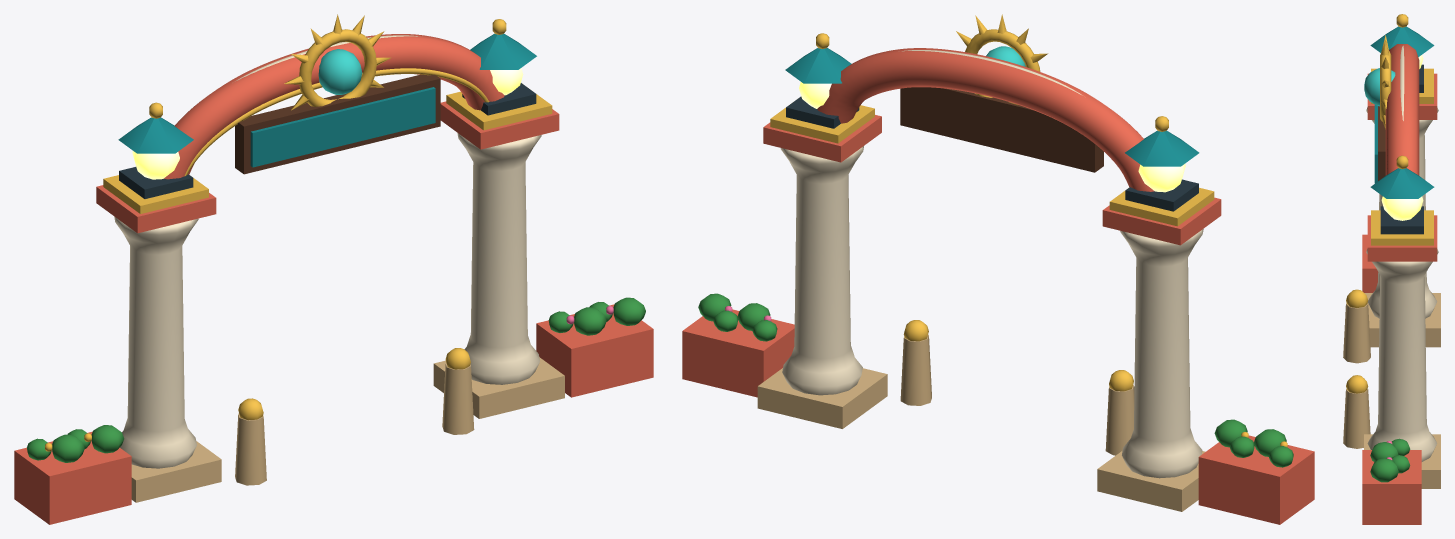
Rendered from island-gateway.glb.
3 renders of one model, left to right at view 1: azimuth 30°, elevation 25°; view 2: azimuth 150°, elevation 25°; view 3: azimuth 270°, elevation 25°, orthographic. The views are drawn at different scales.
Parts seen in each view (by area): view 1: Mesh_coral, Mesh_cream, Mesh_teal, Mesh_sandStone, Mesh_gold, Mesh_darkWood, Mesh_leaf, Mesh_iron, Mesh_glowWarm, Mesh_turquoise; view 2: Mesh_coral, Mesh_cream, Mesh_sandStone, Mesh_darkWood, Mesh_gold, Mesh_leaf, Mesh_teal, Mesh_iron, Mesh_glowWarm; view 3: Mesh_cream, Mesh_coral, Mesh_sandStone, Mesh_gold, Mesh_teal, Mesh_leaf, Mesh_iron, Mesh_glowWarm, Mesh_turquoise, Mesh_darkWood.
Boxes of the visible parts, box(x1,y1,x2,y2) form: Mesh_coral: box(14, 34, 653, 524); Mesh_cream: box(114, 35, 541, 468); Mesh_teal: box(118, 33, 536, 167); Mesh_sandStone: box(131, 357, 564, 502); Mesh_gold: box(103, 14, 552, 420); Mesh_darkWood: box(235, 74, 440, 174); Mesh_leaf: box(27, 297, 645, 462); Mesh_iron: box(119, 83, 536, 198); Mesh_glowWarm: box(132, 68, 523, 179); Mesh_turquoise: box(318, 49, 362, 94); Mesh_coral: box(682, 48, 1314, 524); Mesh_cream: box(780, 50, 1203, 478); Mesh_sandStone: box(757, 334, 1205, 511); Mesh_darkWood: box(900, 87, 1103, 172); Mesh_gold: box(770, 14, 1214, 391); Mesh_leaf: box(698, 293, 1293, 467); Mesh_teal: box(785, 48, 1199, 166); Mesh_iron: box(786, 96, 1198, 211); Mesh_glowWarm: box(799, 82, 1185, 192); Mesh_cream: box(1366, 45, 1438, 461); Mesh_coral: box(1362, 44, 1437, 524); Mesh_sandStone: box(1343, 293, 1440, 488); Mesh_gold: box(1346, 14, 1433, 393); Mesh_teal: box(1370, 26, 1434, 198); Mesh_leaf: box(1370, 438, 1410, 482); Mesh_iron: box(1380, 64, 1423, 234); Mesh_glowWarm: box(1381, 55, 1423, 220); Mesh_turquoise: box(1364, 68, 1395, 106); Mesh_darkWood: box(1378, 106, 1385, 180).
Bounding box in the file's own units: 8.48 × 5.71 × 1.4.
